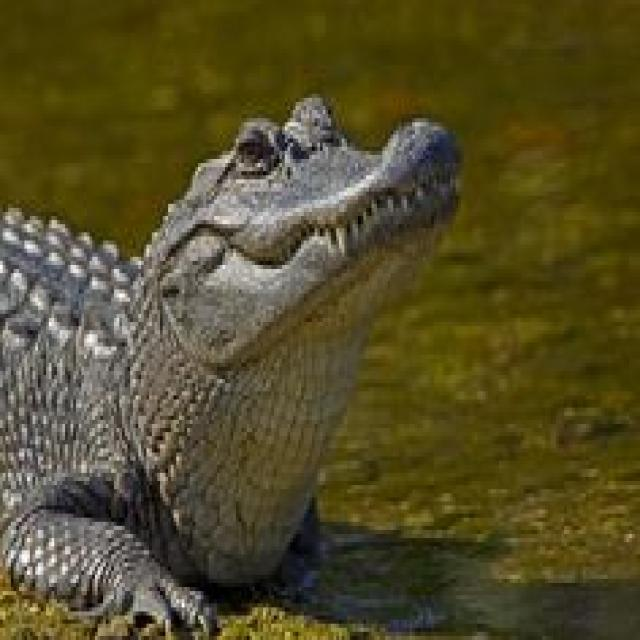Carnivorous: (0, 94, 464, 640)
